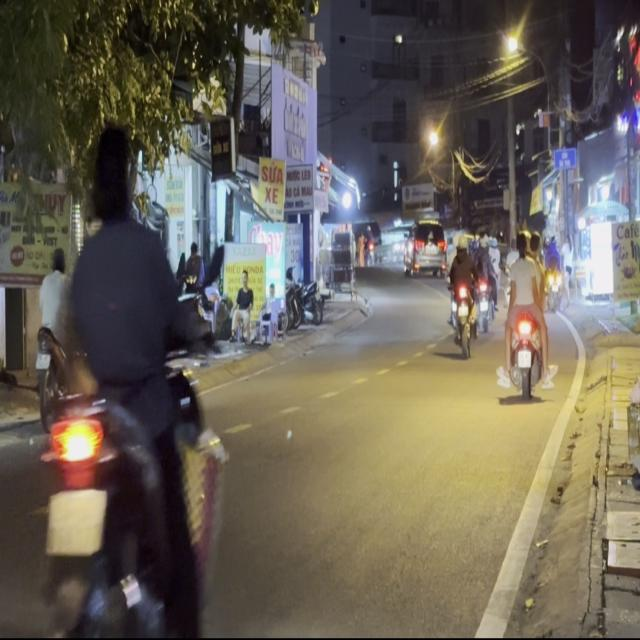licenseplate: (28, 118, 229, 632)
motorcyclist: (88, 122, 135, 221)
nohelmet: (46, 490, 104, 554)
